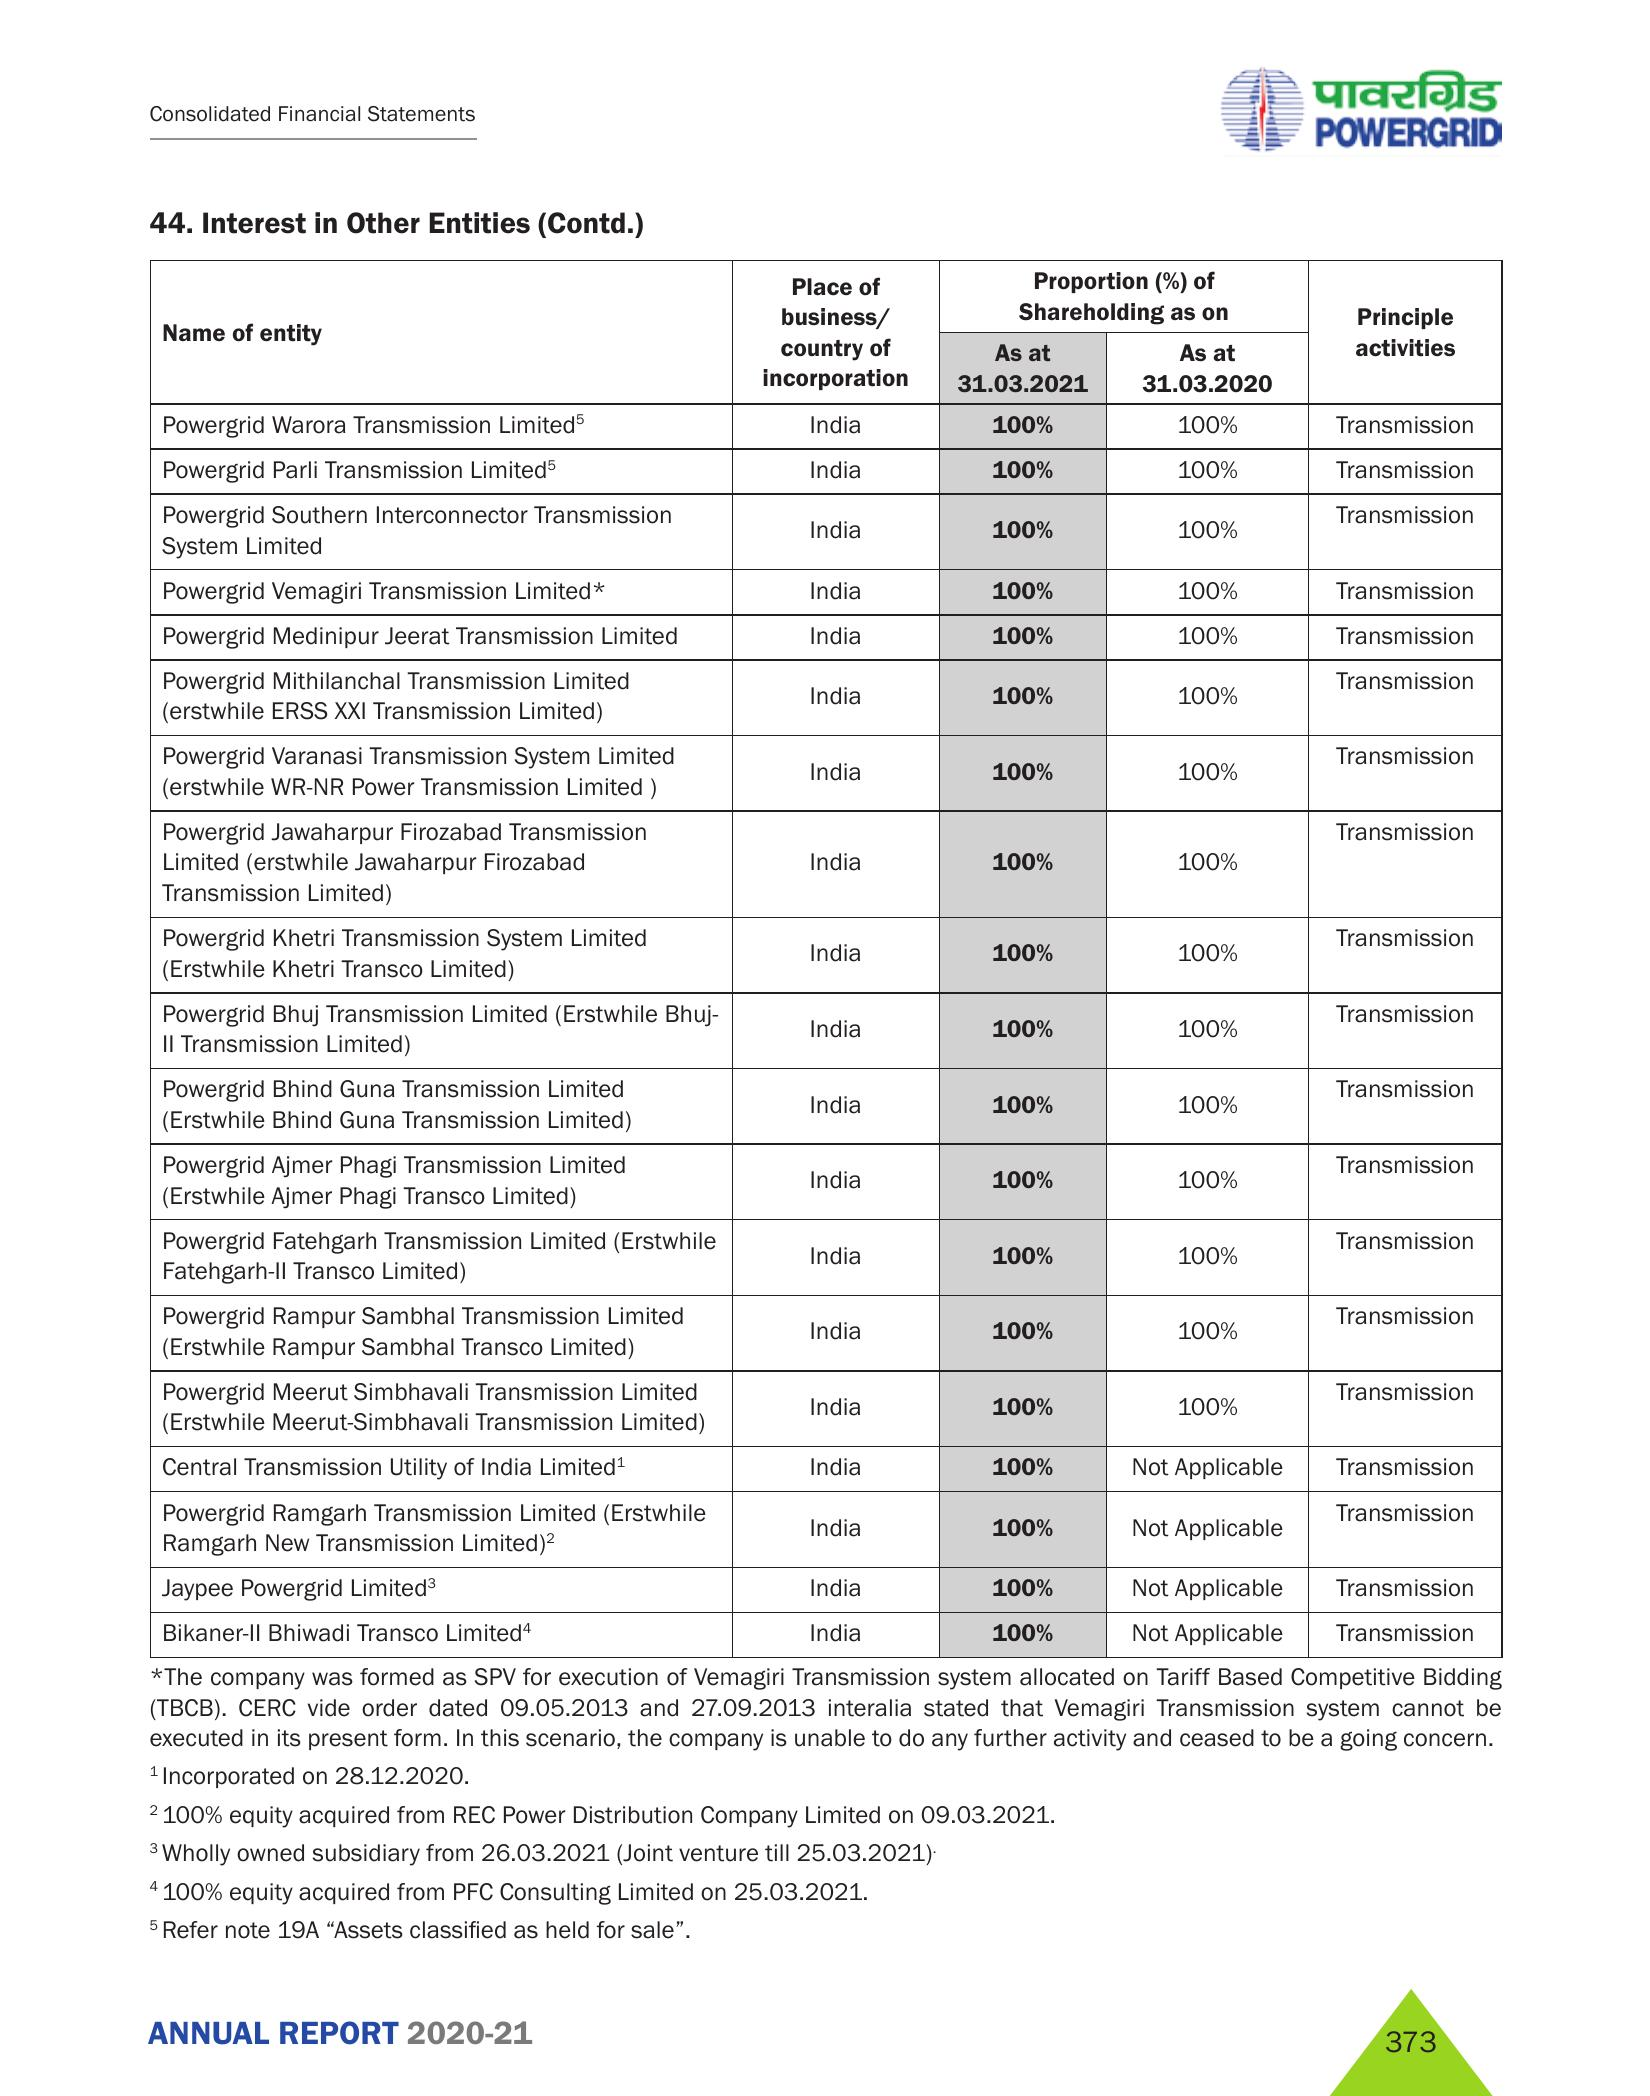Footer: (0, 1982, 1650, 2096)
Header: (0, 0, 1650, 172)
Table: (143, 248, 1507, 1659)
